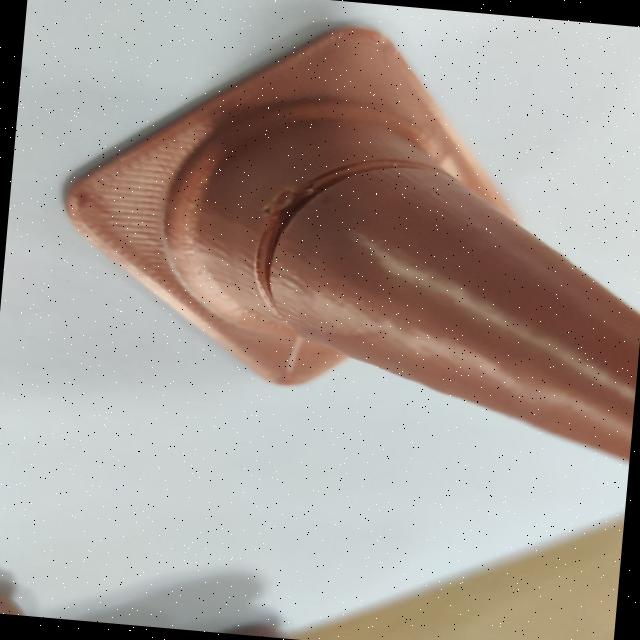cracks: (221, 136, 432, 309)
